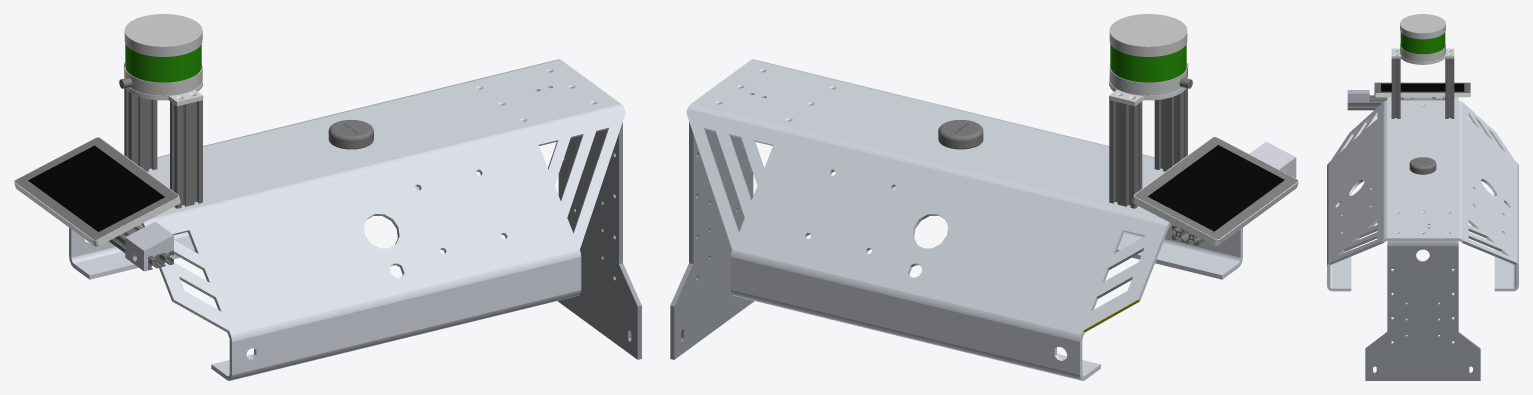
File: dual_arm_bulkhead.dae
3 views of the same model, side by side, from view 1: azimuth 30°, elevation 25°; view 2: azimuth 150°, elevation 25°; view 3: azimuth 270°, elevation 25° (orthographic). The views are drawn at different scales.
Visible parts, largest first — view 1: mesh_7, mesh_2, mesh_1, mesh_6, mesh_9, mesh_5, mesh_10, mesh_3, mesh_4, mesh_11; view 2: mesh_7, mesh_2, mesh_1, mesh_6, mesh_9, mesh_5, mesh_10, mesh_4, mesh_3, mesh_11; view 3: mesh_7, mesh_2, mesh_1, mesh_9, mesh_10, mesh_6, mesh_3, mesh_4, mesh_5, mesh_11.
Boxes of the visible parts, x1,y1,x2,y2 form: mesh_7: (69,59,625,380); mesh_2: (557,122,641,359); mesh_1: (108,68,373,270); mesh_6: (28,145,164,231); mesh_9: (124,14,202,95); mesh_5: (14,77,178,239); mesh_10: (125,44,201,82); mesh_3: (124,64,202,271); mesh_4: (14,137,180,246); mesh_11: (124,63,203,106); mesh_7: (686,59,1242,380); mesh_2: (670,121,754,359); mesh_1: (938,68,1204,245); mesh_6: (1148,145,1284,231); mesh_9: (1109,14,1187,95); mesh_5: (1134,77,1297,239); mesh_10: (1110,44,1186,82); mesh_4: (1132,136,1298,245); mesh_3: (1109,64,1296,178); mesh_11: (1109,63,1188,106); mesh_7: (1327,97,1518,291); mesh_2: (1365,240,1480,380); mesh_1: (1347,58,1454,174); mesh_9: (1400,14,1445,62); mesh_10: (1400,32,1445,54); mesh_6: (1381,83,1464,91); mesh_3: (1347,43,1445,102); mesh_4: (1374,83,1470,97); mesh_5: (1374,82,1470,92); mesh_11: (1391,48,1454,64).
Size of the model in its own units: 0.8266 by 0.4325 by 0.5817.
